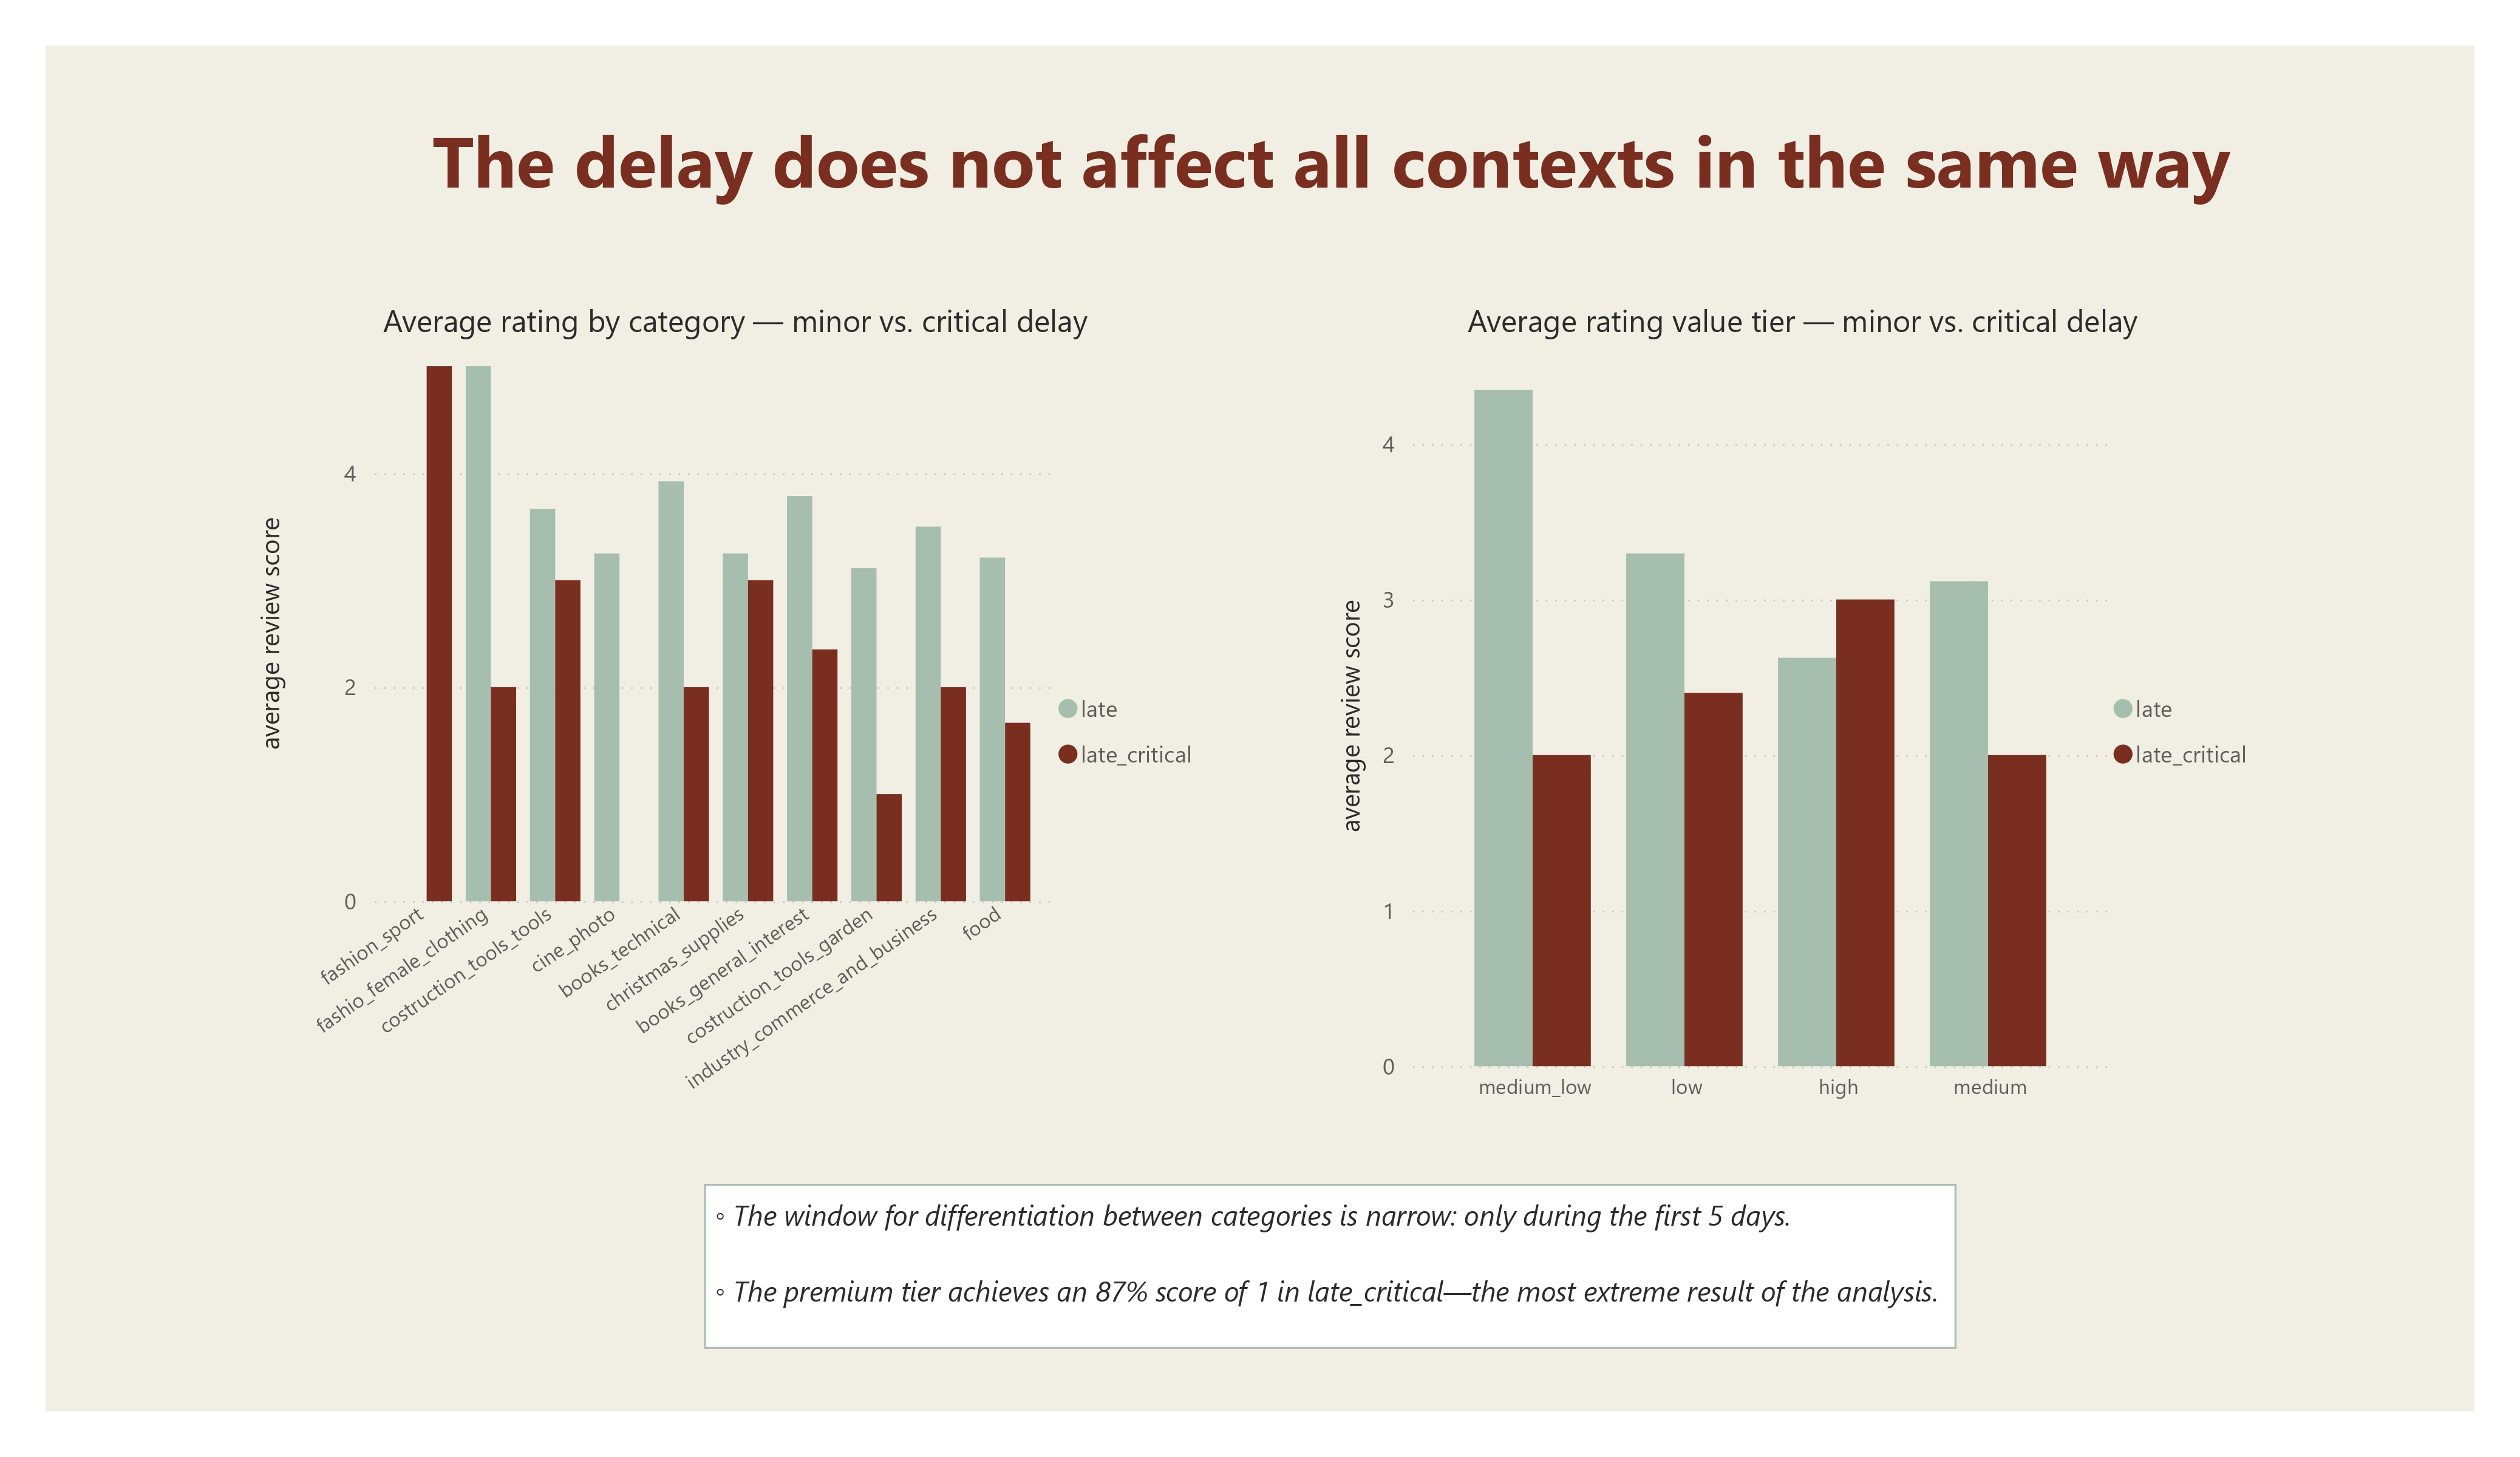

The dashboard page shown, as its layout file describes it:
{"tool":"powerbi","page":{"name":"Asymmetry of Delay","canvas":[1280,720],"ordinal":1},"visuals":[{"type":"textbox","box":[188,10,978.7,102.7],"z":0},{"type":"clusteredColumnChart","title":"Average rating by category — minor vs. critical delay","fields":{"Category":["q1_satisfaction.category_en"],"Y":["q1_satisfaction.avg_review"],"Series":["q1_satisfaction.delay_status"]},"box":[108,134,510.7,432.7],"z":1000},{"type":"clusteredColumnChart","title":"Average rating value tier — minor vs. critical delay","fields":{"Category":["q1_satisfaction.value_tier"],"Y":["q1_satisfaction.avg_review"],"Series":["q1_satisfaction.delay_status"]},"box":[677.3,134,498,432.7],"z":2000},{"type":"textbox","box":[347.3,600,659.3,87.3],"z":3000}]}

Visuals, with their boxes on the page's 1280x720 design canvas (x1, y1, x2, y2). These are canvas units, not pixel positions in the 2520x1457 screenshot, which may show the page scaled, cropped or inside an application window:
textbox: (188, 10, 1167, 113)
"Average rating by category — minor vs. critical delay" clusteredColumnChart: (108, 134, 619, 567)
"Average rating value tier — minor vs. critical delay" clusteredColumnChart: (677, 134, 1175, 567)
textbox: (347, 600, 1007, 687)
